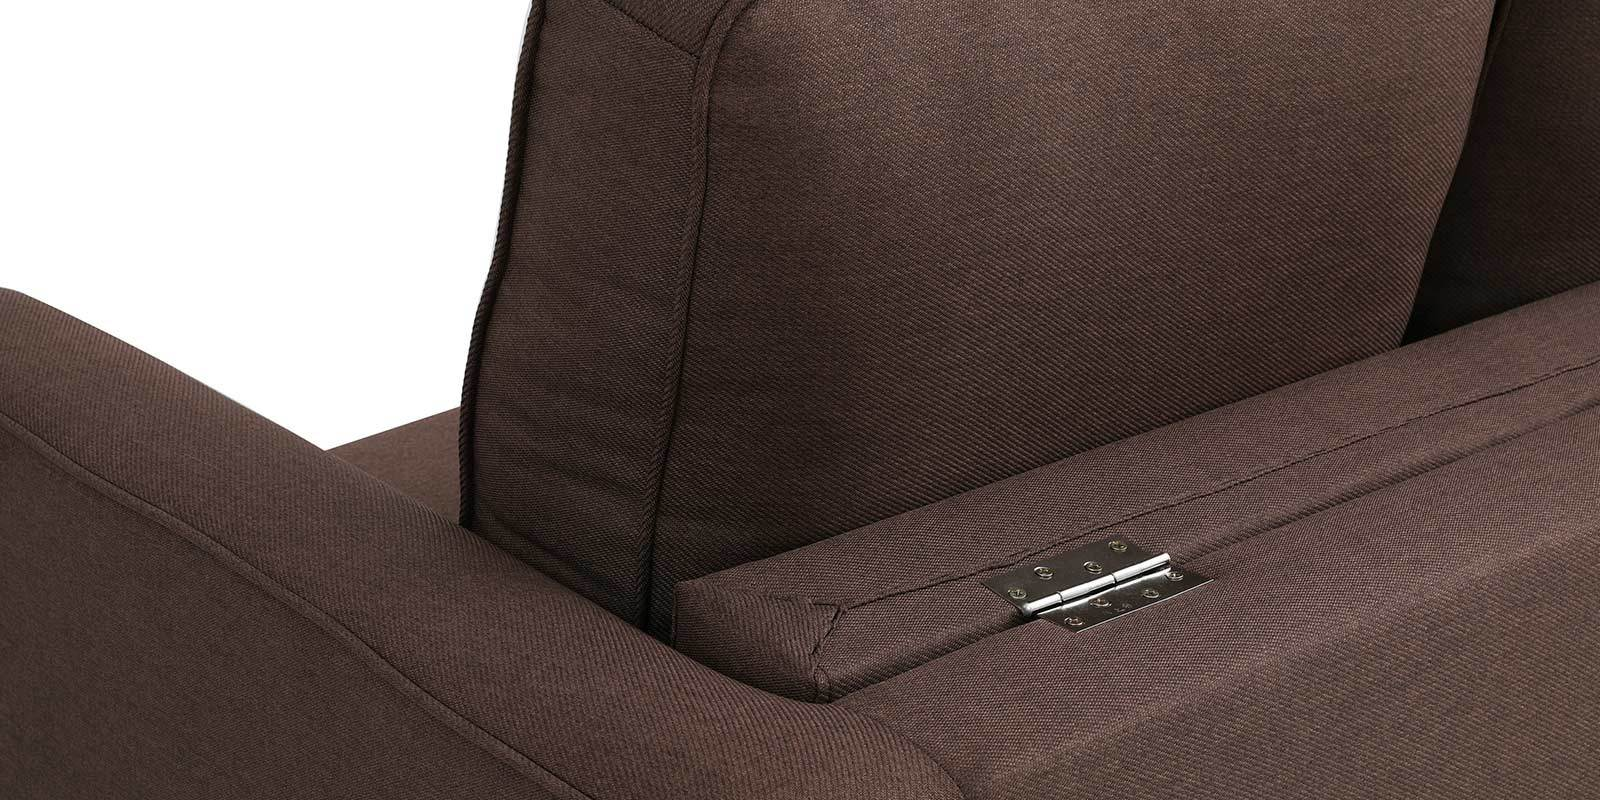Alice Three Seater Sofa in Brown Colour by Zofa: (3, 4, 1592, 790)
